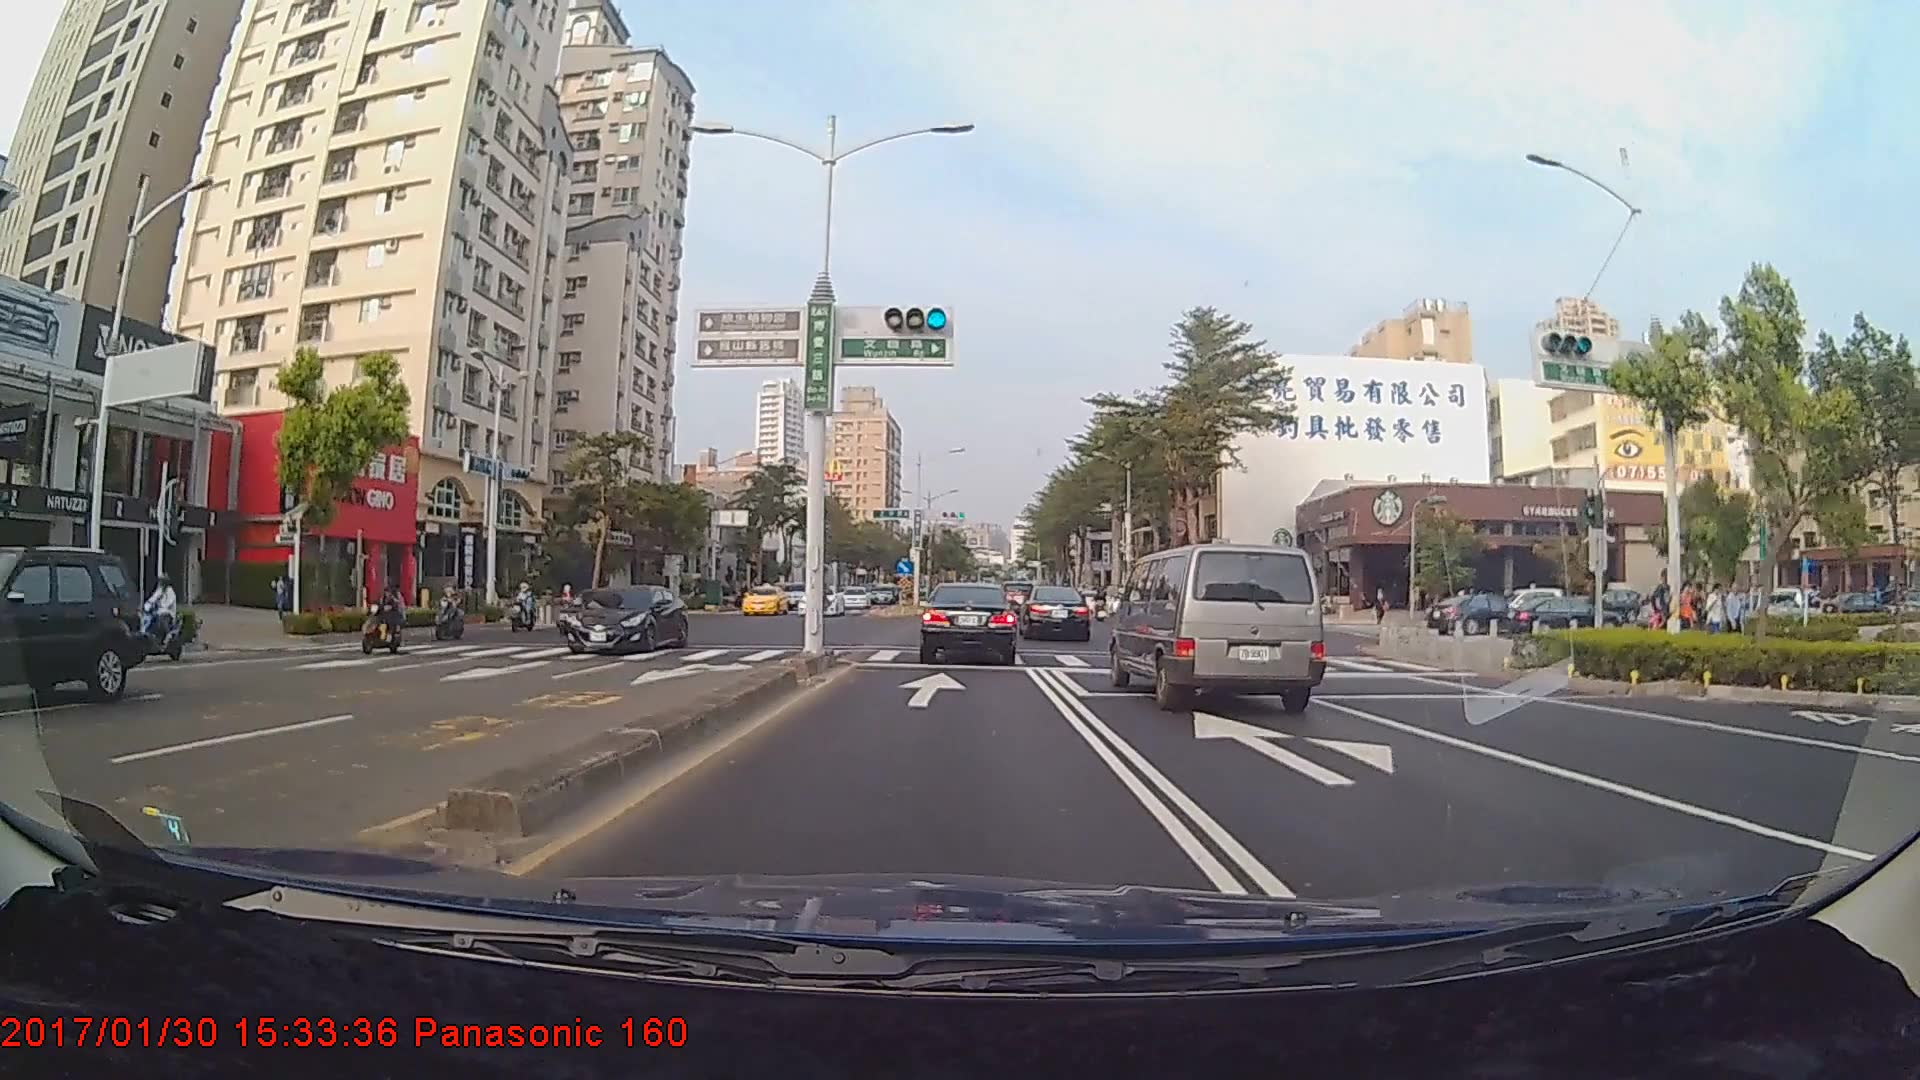pedestrian: (1652, 572, 1676, 647), (1723, 583, 1746, 649), (1707, 581, 1727, 648), (1678, 584, 1698, 644)
rider: (349, 575, 409, 662), (132, 574, 191, 660), (429, 578, 473, 646)
vehicle: (1124, 541, 1326, 713), (0, 546, 144, 707), (918, 582, 1019, 662), (567, 586, 688, 651), (1018, 585, 1091, 641), (1426, 592, 1518, 636), (739, 584, 789, 617), (796, 582, 845, 614), (838, 587, 870, 612)
